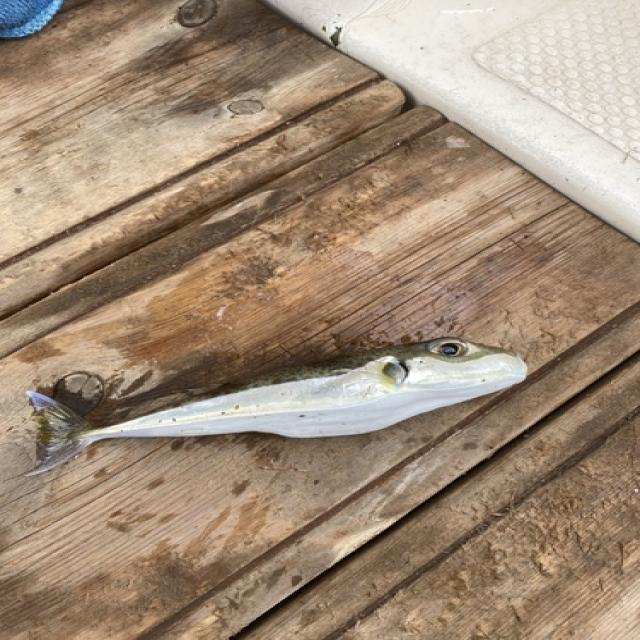Balik: (28, 338, 527, 474)
